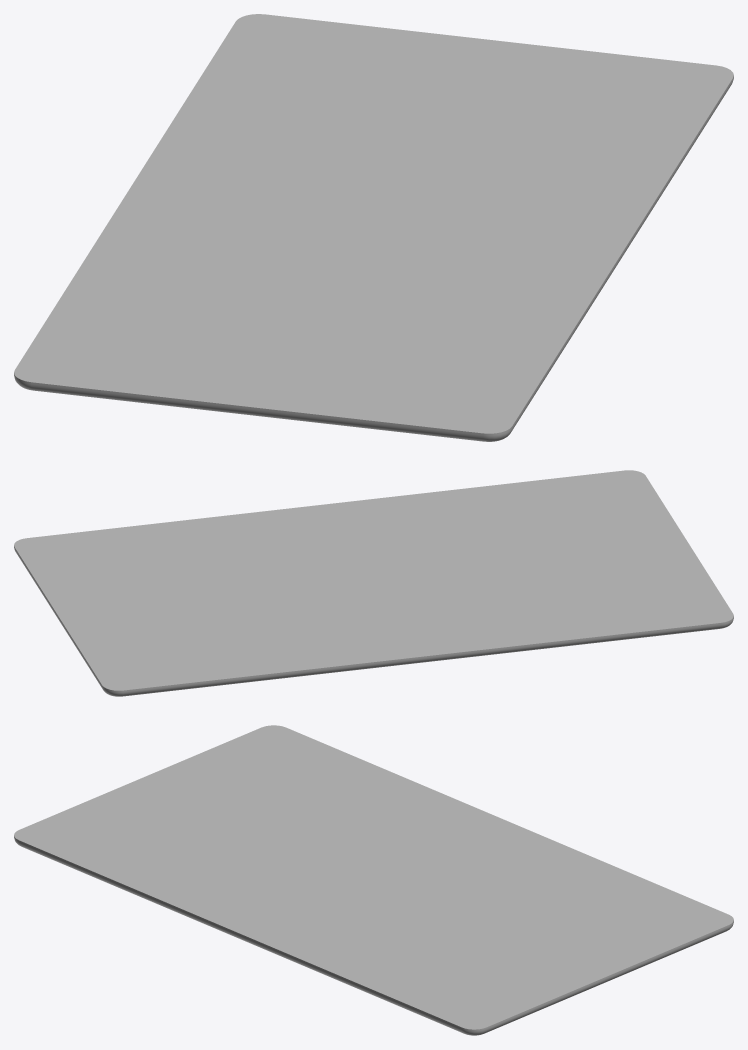
File: diningtable_0206_top.glb
3 views of the same model, one above another, from view 1: azimuth 30°, elevation 25°; view 2: azimuth 150°, elevation 25°; view 3: azimuth 270°, elevation 25° (orthographic). The views are drawn at different scales.
Parts seen in each view (by area): view 1: diningtable_0206_top; view 2: diningtable_0206_top; view 3: diningtable_0206_top.
Boxes of the visible parts, box(x1,y1,x2,y2) form: diningtable_0206_top: box(14, 14, 733, 441); diningtable_0206_top: box(14, 470, 733, 696); diningtable_0206_top: box(14, 725, 733, 1035).
Size of the model in its own units: 1.52 by 0.0202 by 1.52.
1 material, 1 textured.
